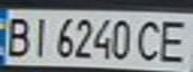0: (109, 16, 136, 61)
2: (72, 15, 96, 61)
4: (90, 15, 115, 61)
6: (51, 14, 75, 58)
B: (0, 14, 33, 58)
C: (133, 16, 166, 63)
E: (154, 16, 193, 65)
I: (27, 14, 54, 58)
